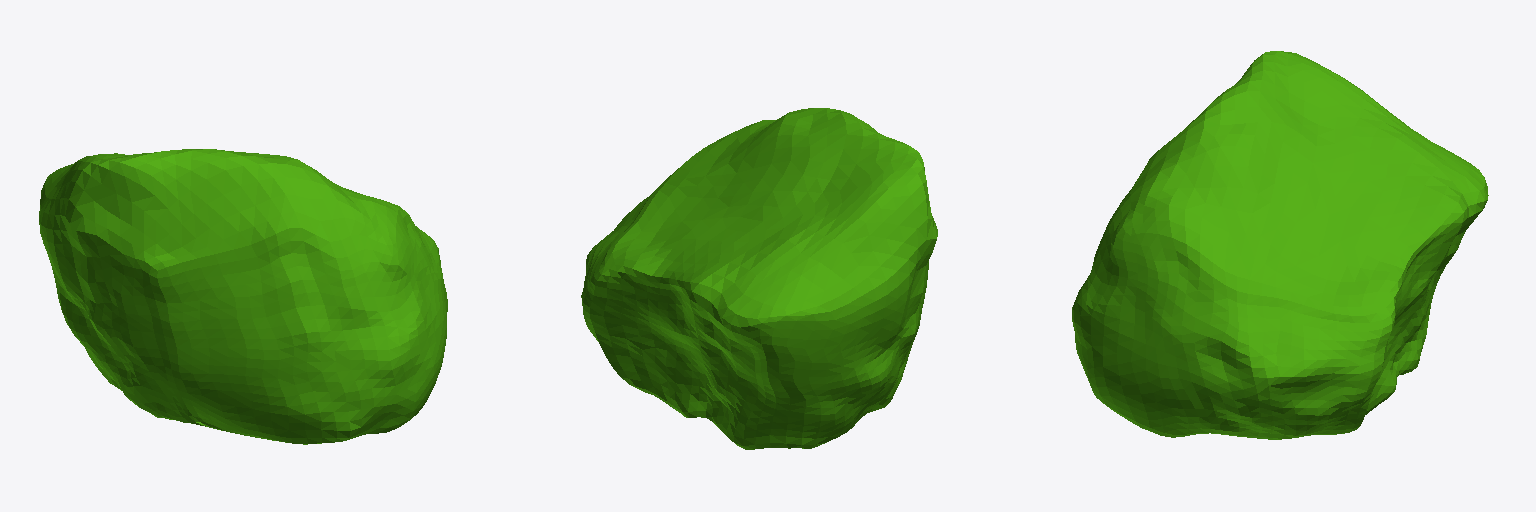
Rendered from Rock_001.obj.
The picture shows the model from 3 angles: view 1: azimuth 30°, elevation 25°; view 2: azimuth 150°, elevation 25°; view 3: azimuth 270°, elevation 25°; orthographic projection.
Parts seen in each view (by area): view 1: Box001; view 2: Box001; view 3: Box001.
Boxes of the visible parts, x1,y1,x2,y2 form: Box001: [39, 149, 447, 444]; Box001: [581, 108, 937, 449]; Box001: [1072, 51, 1488, 439].
Bounding box in the file's own units: 185 × 138 × 191.